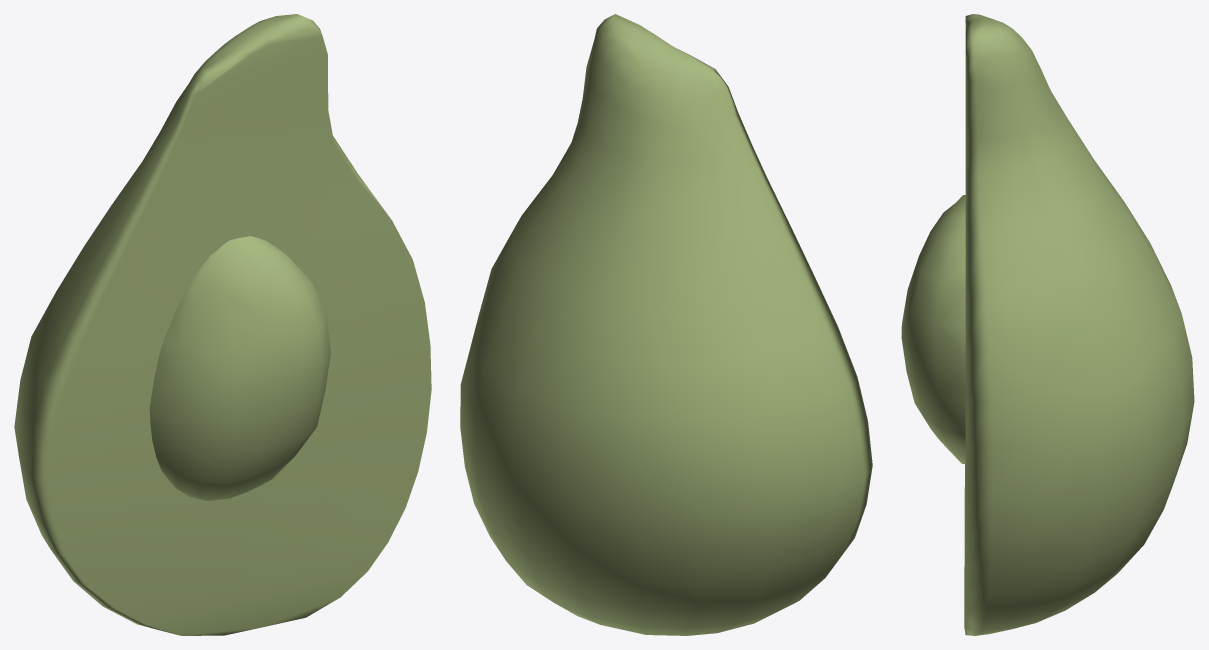
Rendered from avocado.glb.
The picture shows the model from 3 angles, left to right: view 1: azimuth 30°, elevation 25°; view 2: azimuth 150°, elevation 25°; view 3: azimuth 270°, elevation 25°; orthographic projection. The views are drawn at different scales.
Parts seen in each view (by area): view 1: Avocado; view 2: Avocado; view 3: Avocado.
Boxes of the visible parts, left/top/right/bottom form: Avocado: left=14, top=14, right=431, bottom=635; Avocado: left=460, top=14, right=872, bottom=635; Avocado: left=901, top=14, right=1194, bottom=635.
Bounding box in the file's own units: 0.0426 × 0.0629 × 0.0276.
